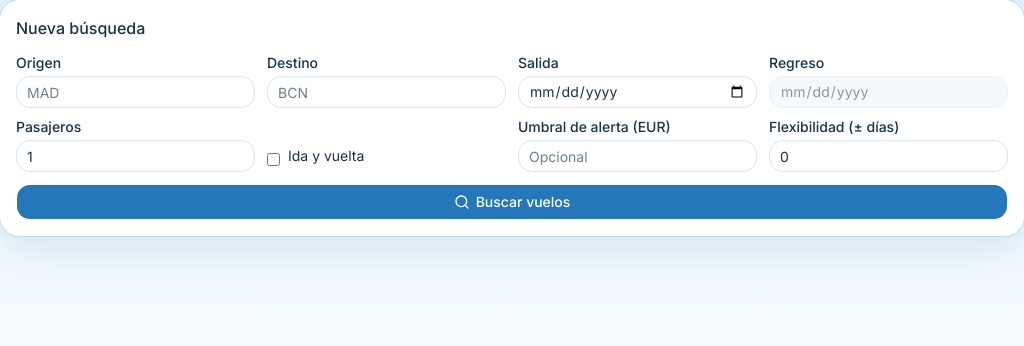
Test: SearchForm › warns that flexible dates restrict the search to Google Flights
Expected: the text "solo se consulta Google Flights" is not shown
Type "3" into the number field labelled "Flexibilidad (± días)" at (888, 156), box [769, 140, 1008, 172]
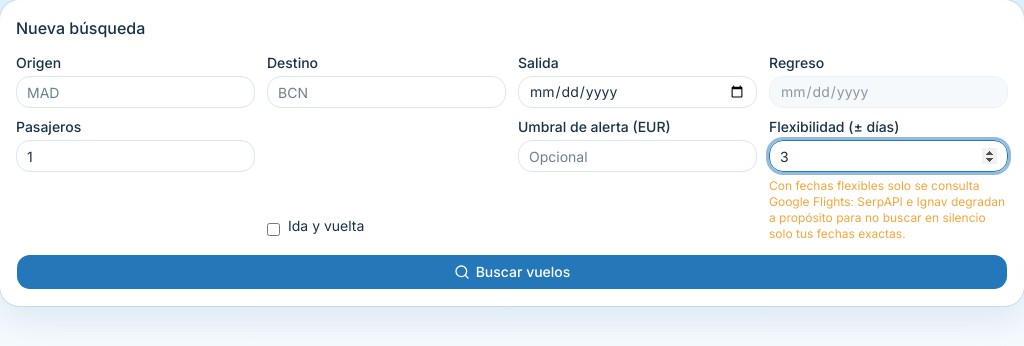
Now the text "solo se consulta Google Flights" is shown, box [769, 178, 1005, 241]
